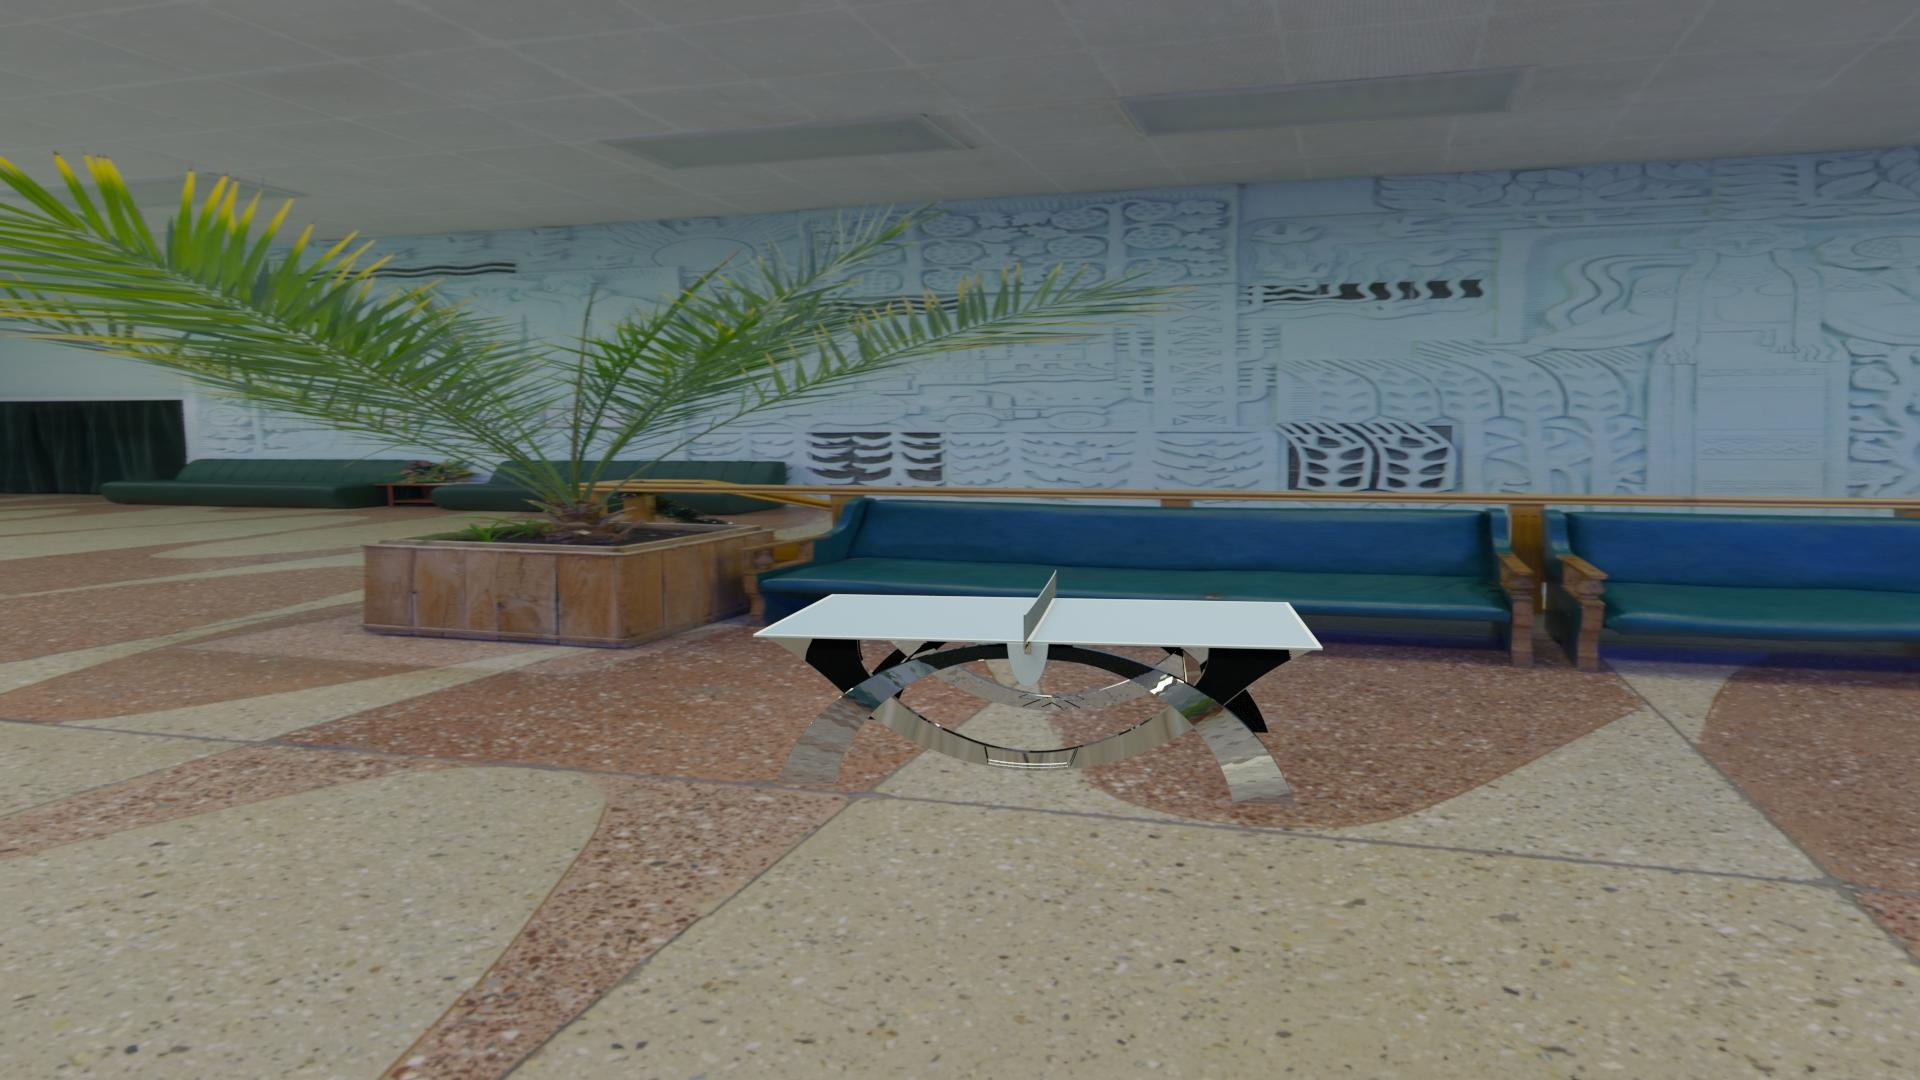table: (758, 595, 1317, 647)
